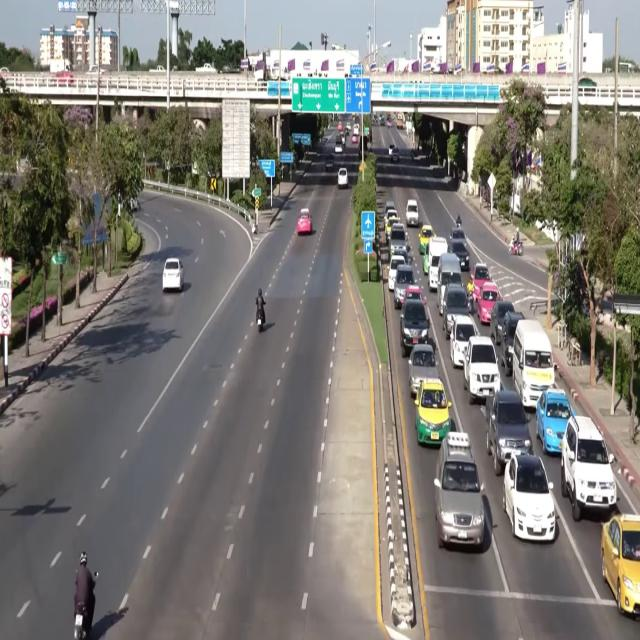car: (560, 416, 616, 521), (434, 432, 484, 547), (503, 455, 555, 542), (486, 389, 533, 475), (601, 514, 639, 616), (463, 336, 501, 404), (536, 388, 573, 454), (415, 378, 451, 445), (400, 301, 429, 357), (499, 312, 523, 376), (442, 283, 468, 339), (409, 344, 437, 396), (450, 316, 476, 367), (490, 300, 514, 345), (476, 281, 501, 324), (394, 265, 416, 309), (470, 263, 492, 301), (162, 258, 183, 291), (388, 255, 406, 291), (449, 240, 469, 271), (389, 223, 407, 255), (419, 225, 434, 254), (404, 285, 426, 304), (385, 209, 399, 238), (297, 208, 312, 235), (406, 200, 418, 226), (394, 250, 412, 264), (450, 227, 465, 242), (338, 167, 348, 189), (384, 200, 396, 215), (129, 198, 139, 212), (326, 156, 334, 170), (335, 141, 342, 153), (392, 150, 399, 162), (339, 132, 345, 146), (388, 144, 395, 155), (354, 123, 359, 135), (352, 134, 358, 143), (0, 67, 9, 73), (346, 122, 351, 132), (337, 122, 342, 131), (387, 119, 392, 127)
scooty: (74, 603, 90, 639), (509, 241, 522, 255), (256, 312, 264, 332)
truck: (49, 58, 71, 74), (196, 63, 217, 73), (396, 112, 404, 129)
